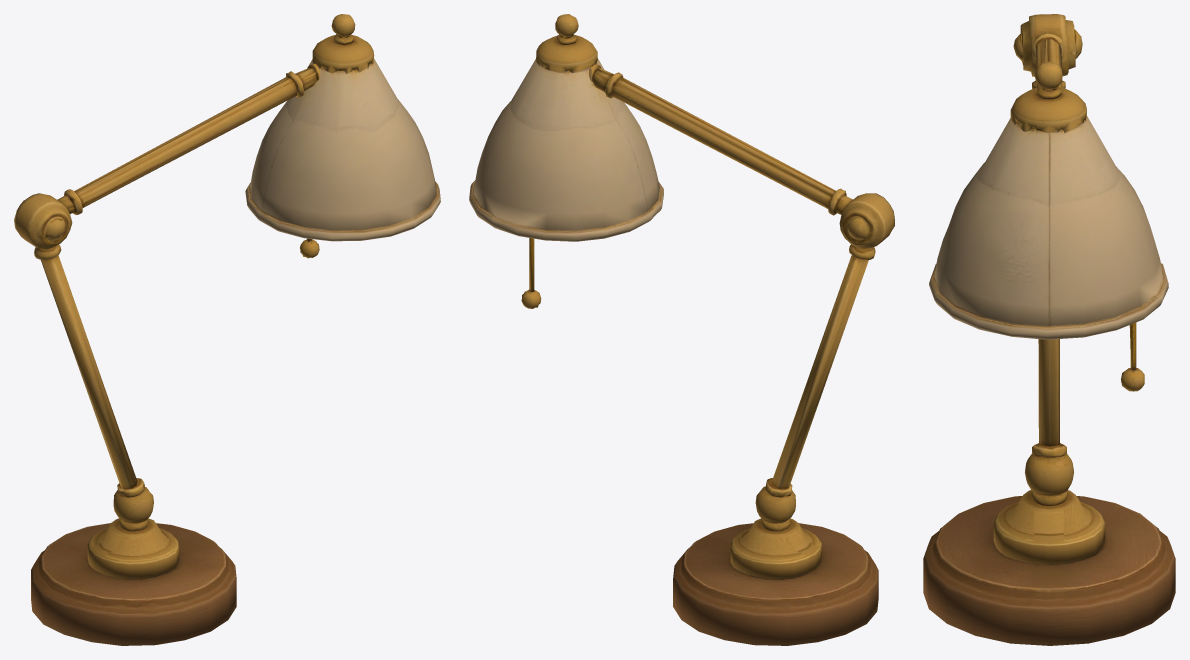
Rendered from lamp-lod1.glb.
The picture shows the model from 3 angles, left to right: view 1: azimuth 30°, elevation 25°; view 2: azimuth 150°, elevation 25°; view 3: azimuth 270°, elevation 25°; orthographic projection. The views are drawn at different scales.
Visible parts, largest first — view 1: tripo_part_1, tripo_part_2, tripo_part_5, tripo_part_17, tripo_part_9, tripo_part_0, tripo_part_3, tripo_part_7; view 2: tripo_part_1, tripo_part_2, tripo_part_5, tripo_part_17, tripo_part_9, tripo_part_0, tripo_part_3, tripo_part_7; view 3: tripo_part_1, tripo_part_2, tripo_part_9, tripo_part_3, tripo_part_17, tripo_part_0, tripo_part_7, tripo_part_5, tripo_part_8, tripo_part_6, tripo_part_12.
Part boxes in pixels (x1,y1,x2,y2): tripo_part_1: [245, 58, 440, 241]; tripo_part_2: [31, 523, 236, 645]; tripo_part_5: [57, 77, 297, 214]; tripo_part_17: [41, 255, 137, 488]; tripo_part_9: [87, 518, 178, 579]; tripo_part_0: [14, 193, 72, 249]; tripo_part_3: [312, 35, 374, 73]; tripo_part_7: [113, 487, 153, 523]; tripo_part_1: [469, 58, 663, 241]; tripo_part_2: [673, 523, 878, 645]; tripo_part_5: [612, 77, 852, 215]; tripo_part_17: [771, 255, 868, 488]; tripo_part_9: [730, 518, 821, 579]; tripo_part_0: [839, 193, 894, 248]; tripo_part_3: [536, 35, 597, 73]; tripo_part_7: [755, 486, 795, 523]; tripo_part_1: [929, 116, 1168, 339]; tripo_part_2: [923, 496, 1175, 645]; tripo_part_9: [993, 490, 1105, 564]; tripo_part_3: [1010, 87, 1086, 133]; tripo_part_17: [1038, 339, 1059, 446]; tripo_part_0: [1013, 14, 1082, 76]; tripo_part_7: [1025, 453, 1073, 496]; tripo_part_5: [1032, 33, 1065, 87]; tripo_part_8: [1034, 61, 1062, 88]; tripo_part_6: [1121, 368, 1144, 391]; tripo_part_12: [1032, 443, 1066, 457].
Size of the model in its own units: 0.8004 by 1 by 0.3503.
24 materials, 24 textured.
